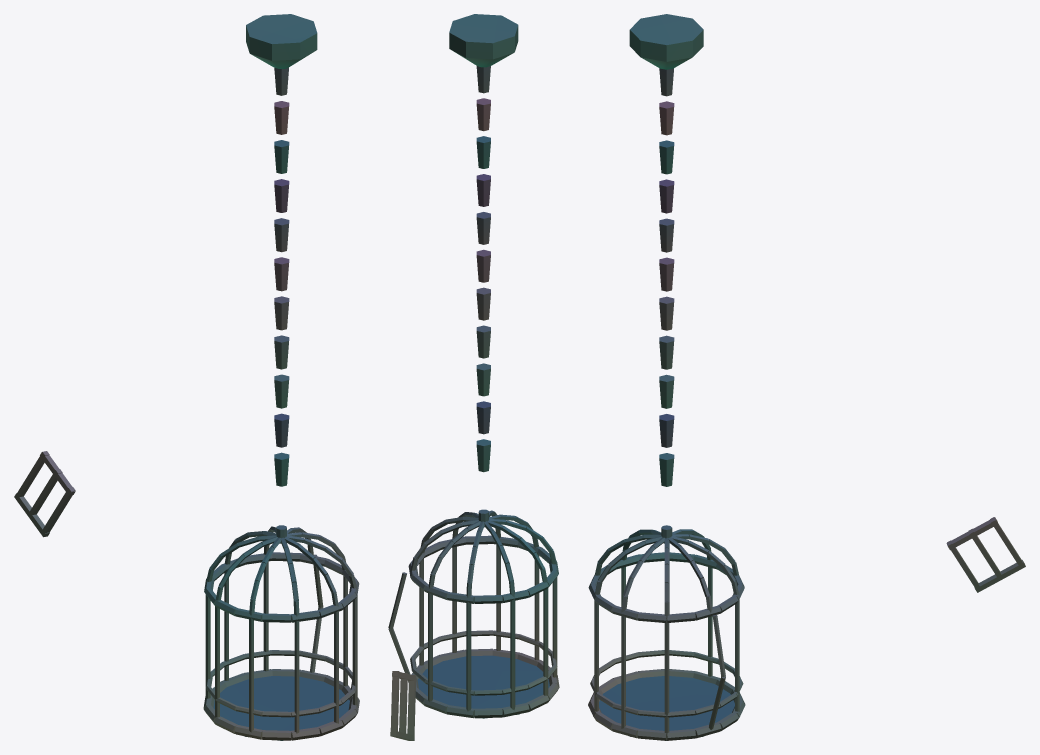
Rendered from lark_cage_dead.glb.
The picture shows the model from 3 angles, left to right: view 1: azimuth 30°, elevation 25°; view 2: azimuth 150°, elevation 25°; view 3: azimuth 270°, elevation 25°; orthographic projection. The views are drawn at different scales.
Visible parts, largest first — view 1: cage_d, cage_floor_d, mount_d, cage_door; view 2: cage_d, cage_floor_d, mount_d, cage_door, link_d.001, link_d.009, link_d.010, link_d.008, link_d.002, link_d.007, link_d.005, link_d.006 (+3 smaller); view 3: cage_d, cage_floor_d, mount_d, cage_door.
Boxes of the visible parts, x1=… form: cage_d: x1=203, y1=525, x2=359, y2=740; cage_floor_d: x1=213, y1=676, x2=349, y2=740; mount_d: x1=246, y1=14, x2=317, y2=68; cage_door: x1=14, y1=451, x2=75, y2=537; cage_d: x1=388, y1=509, x2=559, y2=718; cage_floor_d: x1=417, y1=655, x2=549, y2=718; mount_d: x1=449, y1=14, x2=518, y2=67; cage_door: x1=390, y1=671, x2=416, y2=740; link_d.001: x1=476, y1=98, x2=490, y2=131; link_d.009: x1=476, y1=401, x2=490, y2=434; link_d.010: x1=476, y1=439, x2=490, y2=472; link_d.008: x1=476, y1=363, x2=490, y2=396; link_d.002: x1=476, y1=136, x2=490, y2=168; link_d.007: x1=476, y1=325, x2=490, y2=358; link_d.005: x1=476, y1=249, x2=490, y2=282; link_d.006: x1=476, y1=287, x2=490, y2=320; cage_d: x1=588, y1=525, x2=745, y2=740; cage_floor_d: x1=599, y1=676, x2=734, y2=740; mount_d: x1=629, y1=14, x2=703, y2=69; cage_door: x1=946, y1=517, x2=1025, y2=592.
Size of the model in its own units: 0.5931 by 2.44 by 1.42.
